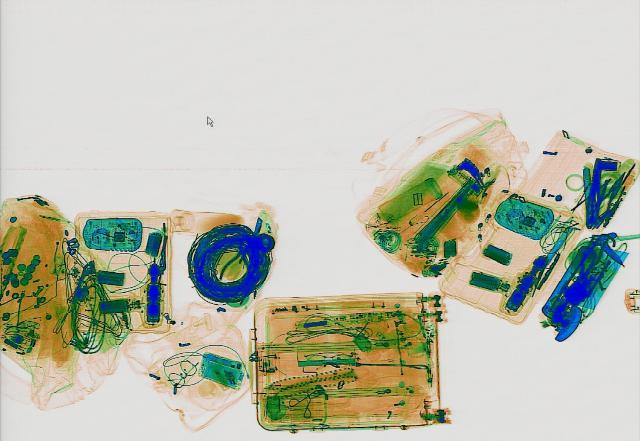Pliers: (569, 236, 609, 288), (217, 237, 261, 283)
